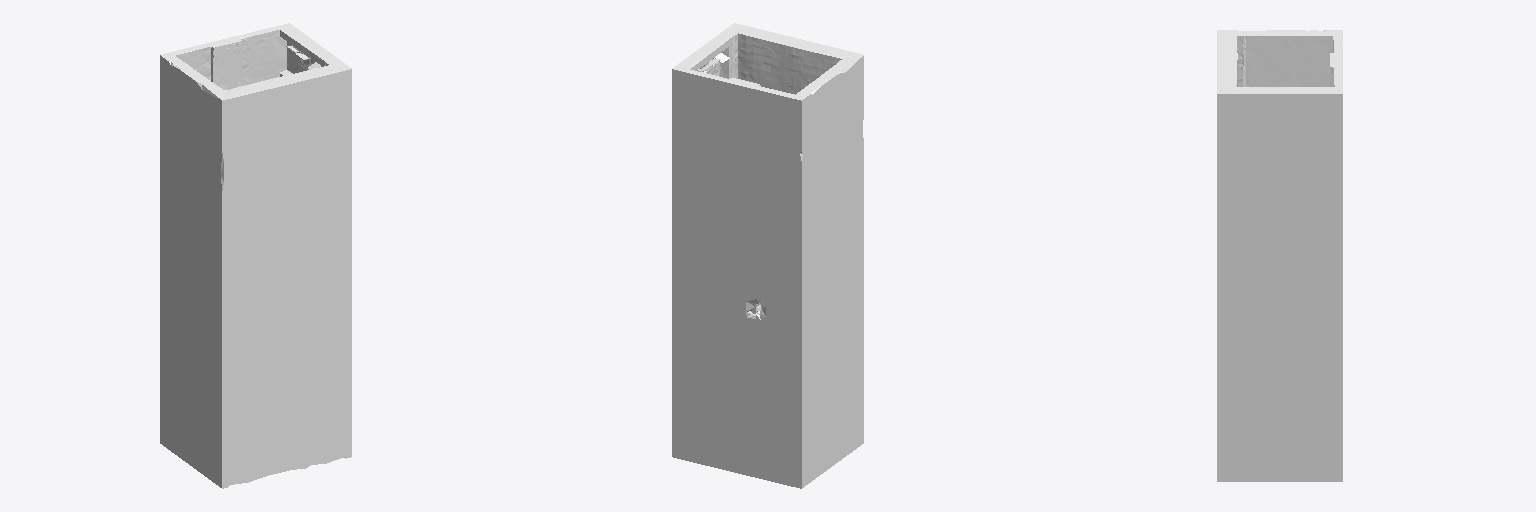
The model's file is Corredor_1_TX.obj.
3 renders of one model, left to right at view 1: azimuth 30°, elevation 25°; view 2: azimuth 150°, elevation 25°; view 3: azimuth 270°, elevation 25°, orthographic.
Visible parts, largest first — view 1: default; view 2: default; view 3: default.
Boxes of the visible parts, box(x1,y1,x2,y2) form: default: box(160, 23, 351, 488); default: box(672, 23, 863, 488); default: box(1217, 30, 1342, 481).
Bounding box in the file's own units: 2.81 × 8.01 × 2.35.